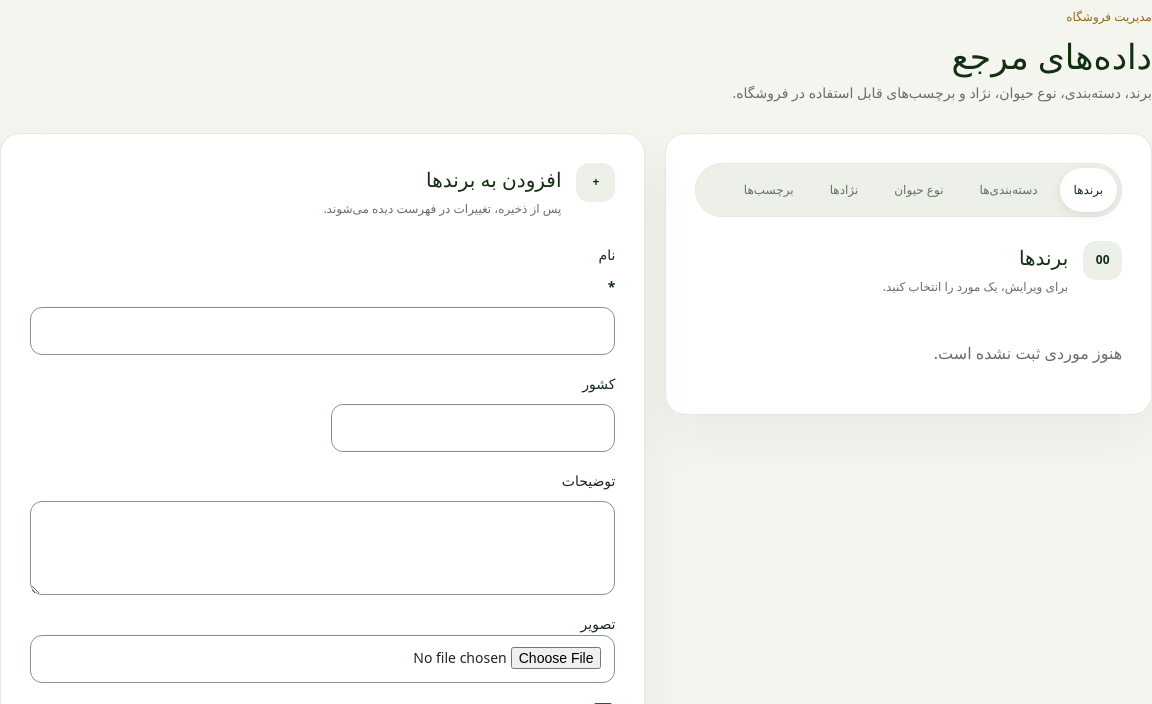
Test: keeps the saved editor and success notice mounted while refreshing new reference data
This screenshot has width=1152, height=704.
Step 1. Type "برند تازه" into the field labelled "نام *" → [323, 331], box [30,307,616,355]
(page scrolled)
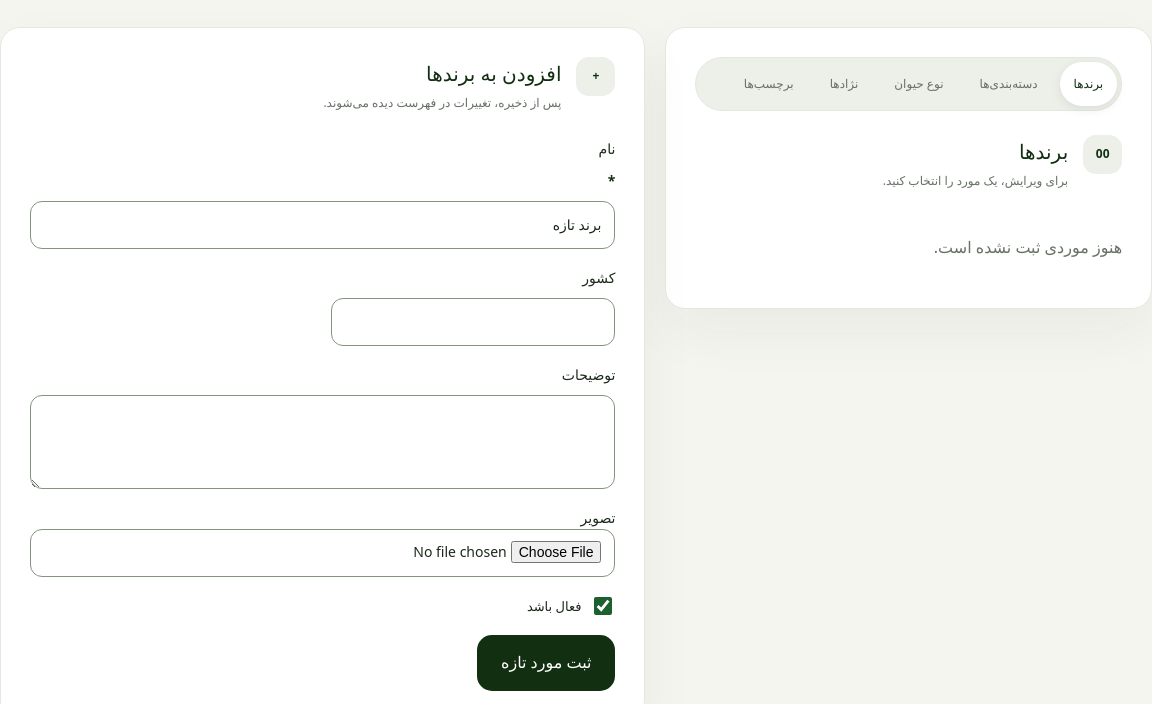
Step 2. Click the button "ثبت مورد تازه" → [546, 663], box [477,635,615,690]
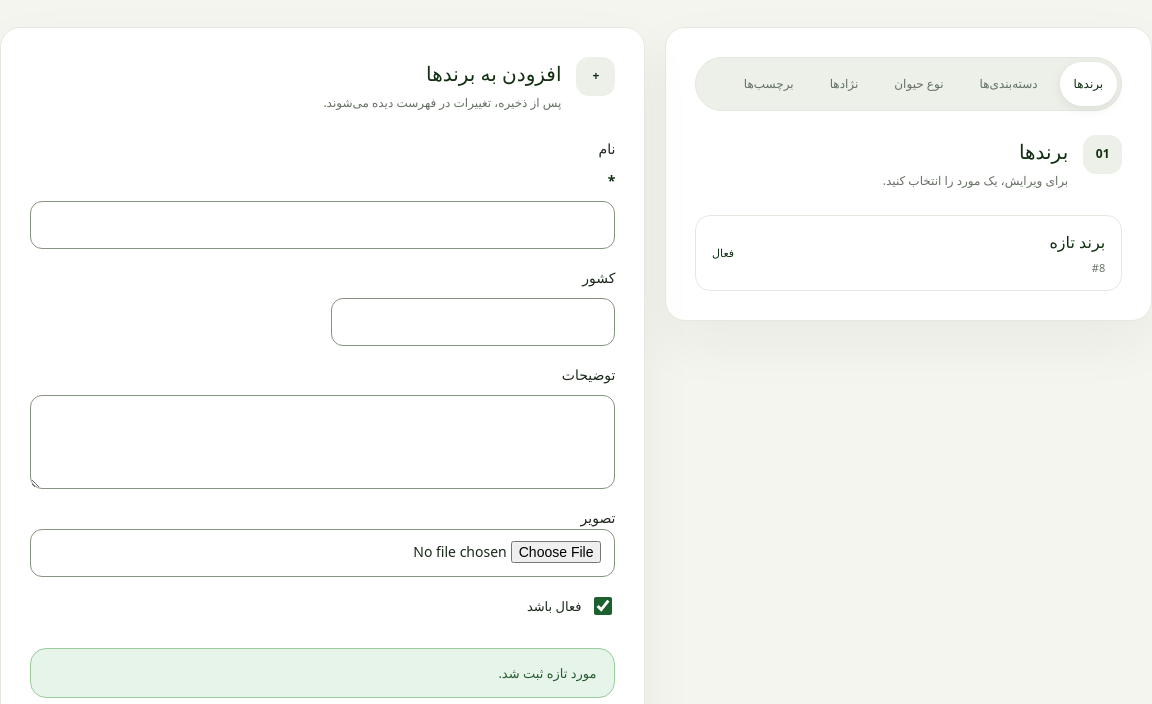
Check: the button "برند تازه #8 فعال" is shown, box [695,215,1122,291]
Check: the text "مورد تازه ثبت شد." is shown, box [30,648,616,698]
